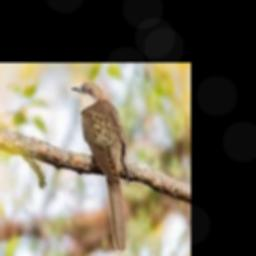Cuckoo: (70, 80, 127, 252)
